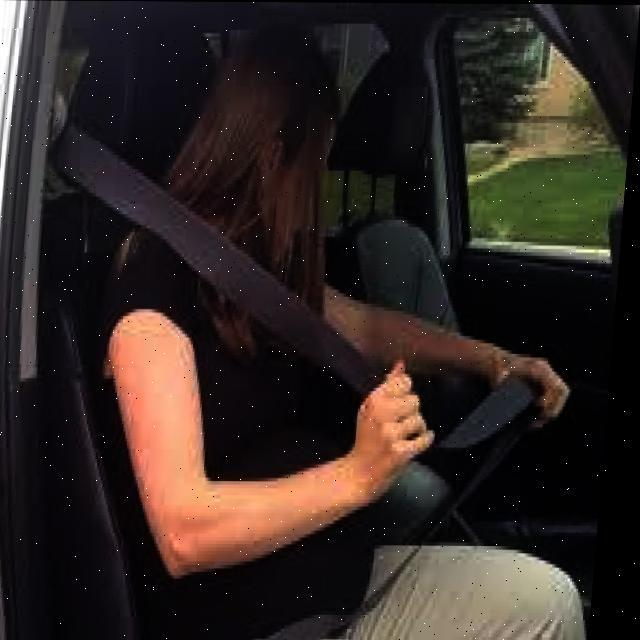seatbelt: (89, 191, 566, 619)
